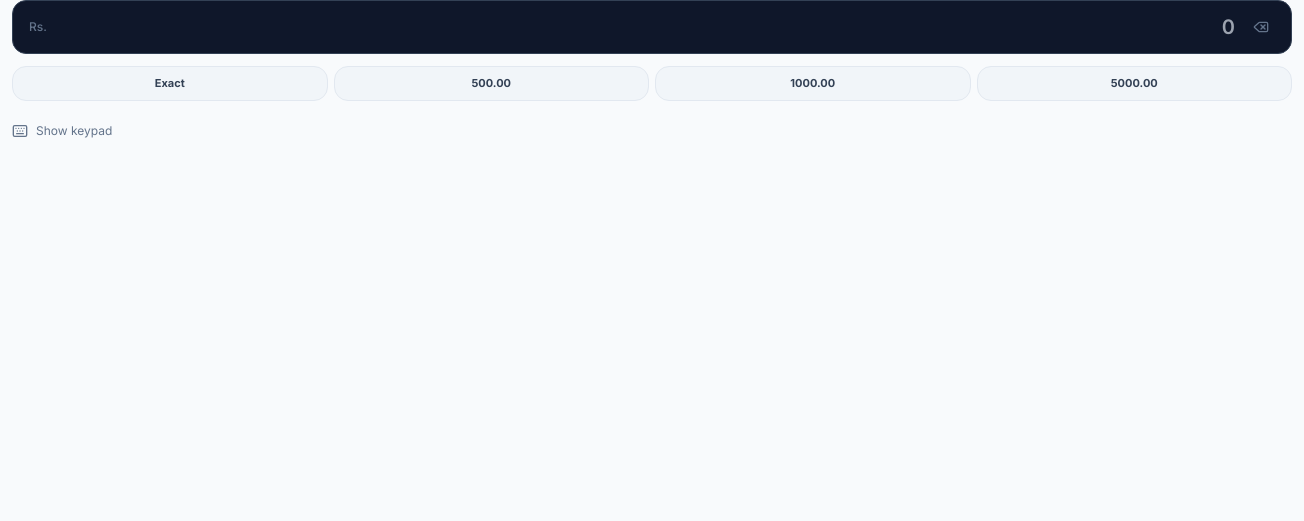
Test: keeps the receipt compact while allowing direct cash entry and an optional keypad
The image size is (1304, 521).
Expected: the button "7" is not shown
Type "150.50" into the field named "Cash received" at (647,27), box [47,13,1247,41]
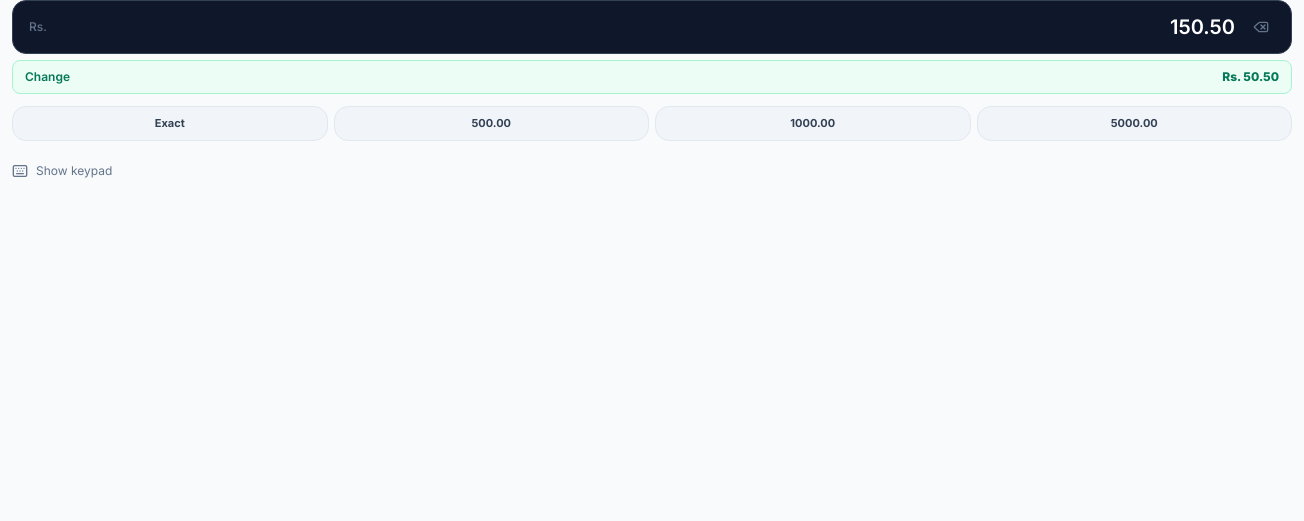
Expected: the text "Rs. 50.50" is shown, [1222,69,1279,85]
Click the button "Show keypad" at (62,170), box [12,152,112,188]
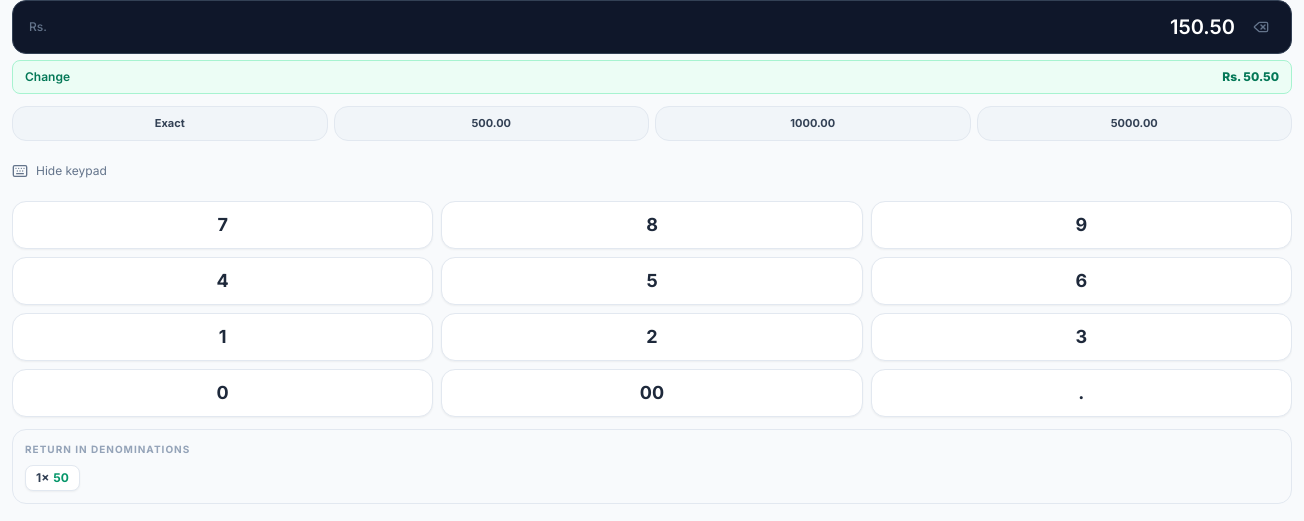
Expected: the button "7" is shown, [12,200,433,248]
Click the button "Exact" at (170,123), box [12,106,328,140]
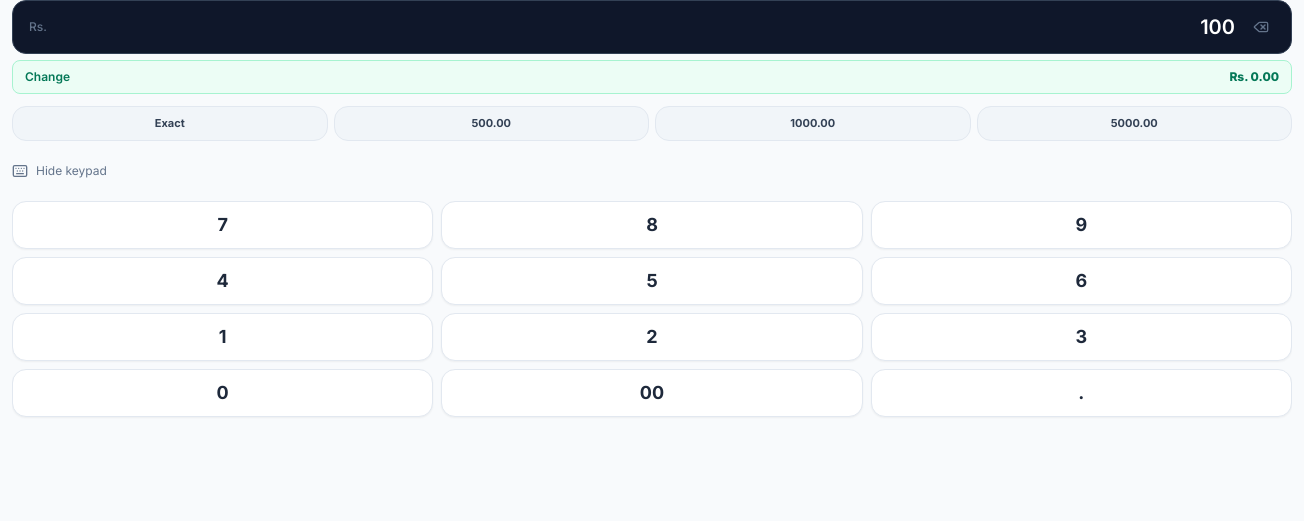
Click the button "Hide keypad" at (59,170), box [12,152,107,188]
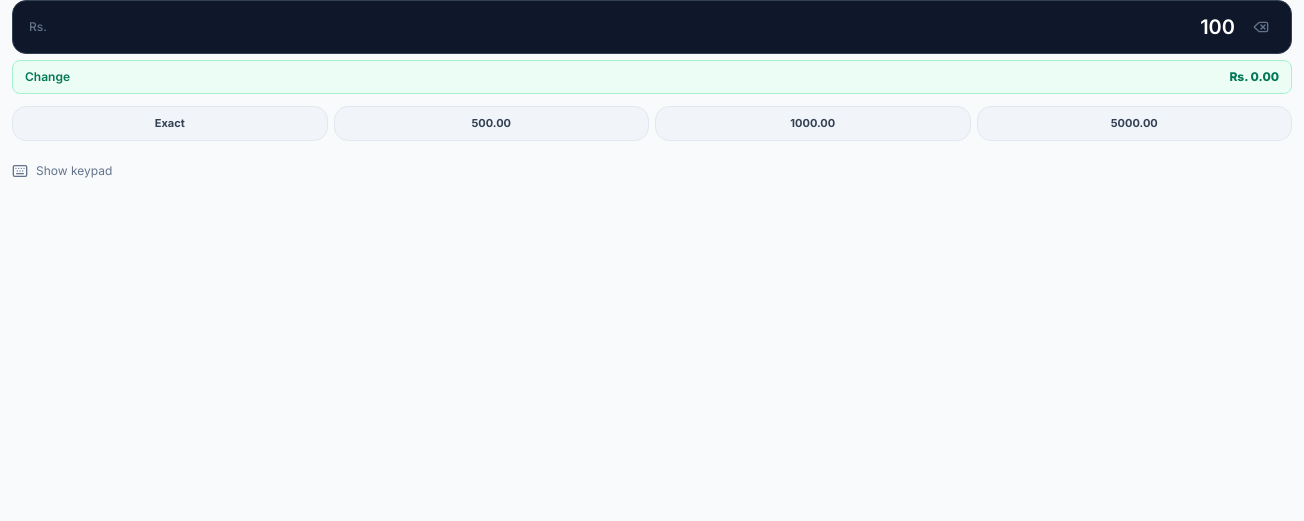
Expected: the button "7" is gone
